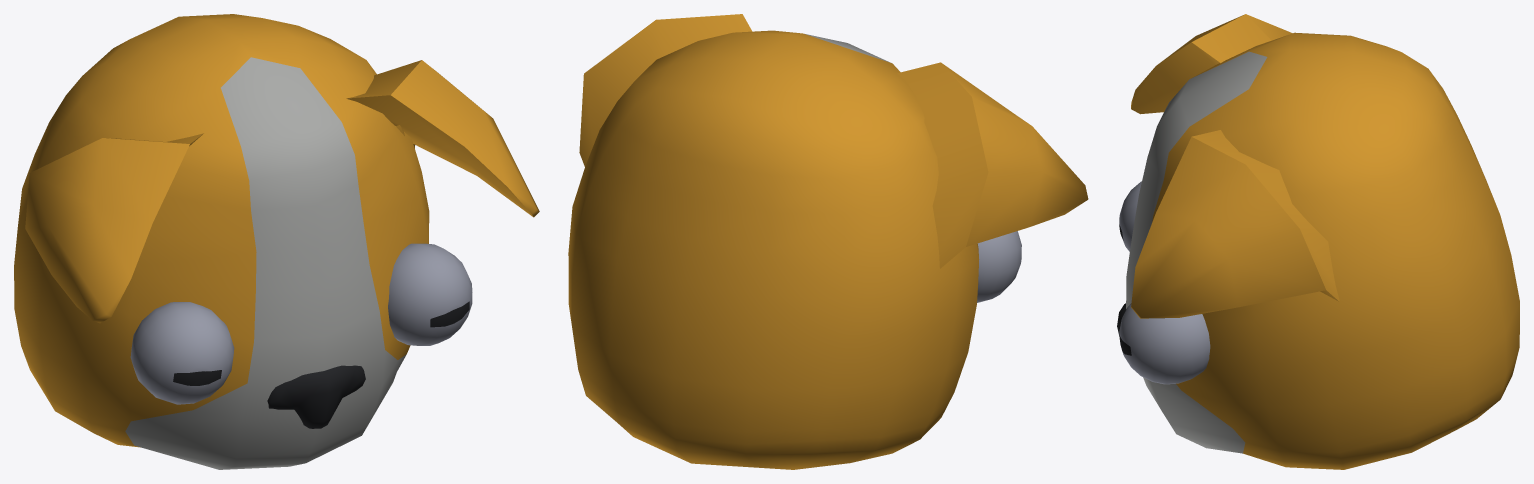
Rendered from dog.glb.
3 views of the same model, side by side, from view 1: azimuth 30°, elevation 25°; view 2: azimuth 150°, elevation 25°; view 3: azimuth 270°, elevation 25° (orthographic). The views are drawn at different scales.
Parts seen in each view (by area): view 1: Dog_Blob; view 2: Dog_Blob; view 3: Dog_Blob.
Part boxes in pixels (x1=…): Dog_Blob: x1=14, y1=14, x2=539, y2=469; Dog_Blob: x1=568, y1=14, x2=1088, y2=469; Dog_Blob: x1=1117, y1=14, x2=1519, y2=469.
Size of the model in its own units: 2.14 by 1.81 by 1.73.
Materials: 1 (1 with a texture image).
